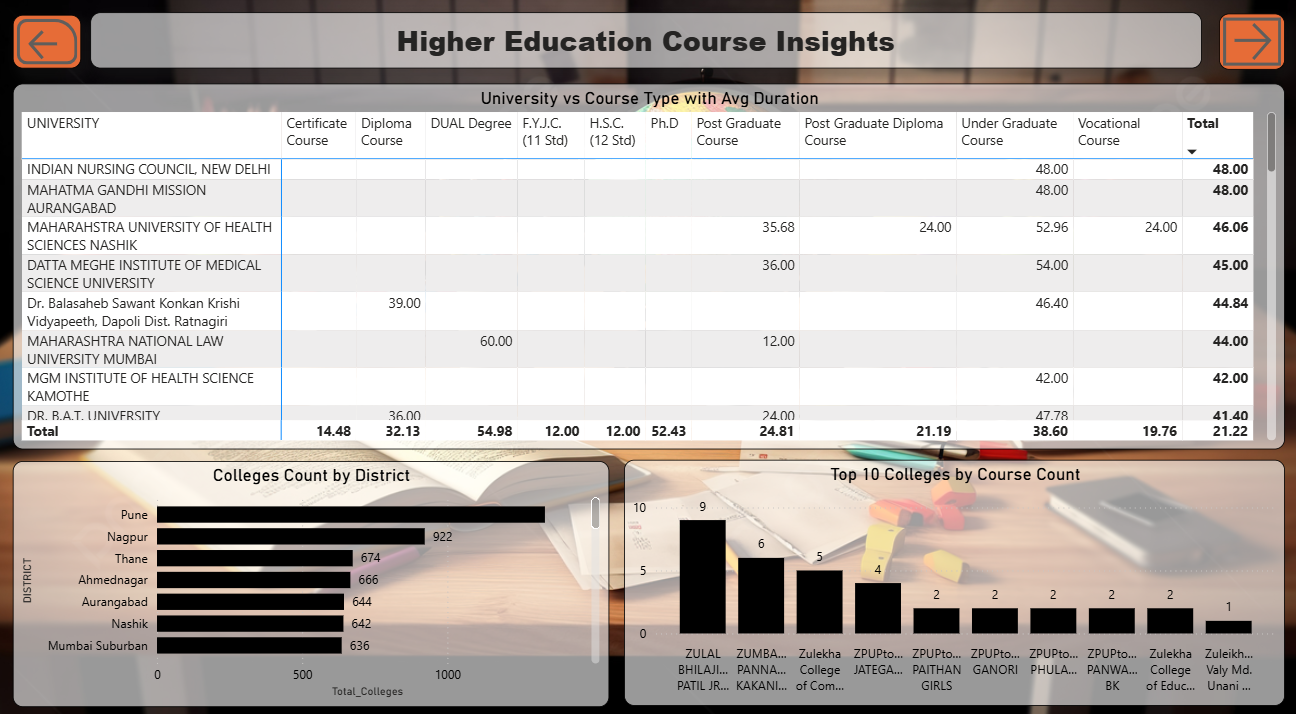

This screenshot's page, from the dashboard's own definition file:
{"tool":"powerbi","page":{"name":"Filters + Deep Dive","canvas":[1280,720],"ordinal":1},"visuals":[{"type":"columnChart","title":"Top 10 Colleges by Course Count","fields":{"Category":["DA Batch 10 SQL & PowerBi Data set.COLLEGE_NAME"],"Y":["DA Batch 10 SQL & PowerBi Data set.COLLEGE_NAME"]},"box":[618.4,455.2,649.1,241.7],"z":0},{"type":"barChart","title":"Colleges Count by District","fields":{"Category":["DA Batch 10 SQL & PowerBi Data set.DISTRICT"],"Y":["DA Batch 10 SQL & PowerBi Data set.Total_Colleges"]},"box":[18.4,456.4,585.3,241.7],"z":1000},{"type":"pivotTable","title":"University vs Course Type with Avg Duration","fields":{"Rows":["DA Batch 10 SQL & PowerBi Data set.UNIVERSITY"],"Columns":["DA Batch 10 SQL & PowerBi Data set.COURSE_TYPE"],"Values":["DA Batch 10 SQL & PowerBi Data set.Avg_Course_Duration"]},"box":[18.4,85.9,1249.1,359.5],"z":2000},{"type":"actionButton","box":[18.4,18.4,67.5,52.8],"z":3000},{"type":"textbox","box":[94.5,16,1090.8,55.2],"z":4000},{"type":"actionButton","box":[1202.5,17.2,65,55.2],"z":5000}]}

Visuals, with their boxes in screenshot pixels (x1, y1, x2, y2), scaled from the page's 1280x720 canvas onto the 1296x714 screenshot:
"Top 10 Colleges by Course Count" columnChart: bbox=(626, 451, 1283, 691)
"Colleges Count by District" barChart: bbox=(19, 453, 611, 692)
"University vs Course Type with Avg Duration" pivotTable: bbox=(19, 85, 1283, 442)
actionButton: bbox=(19, 18, 87, 71)
textbox: bbox=(96, 16, 1200, 71)
actionButton: bbox=(1218, 17, 1283, 72)
